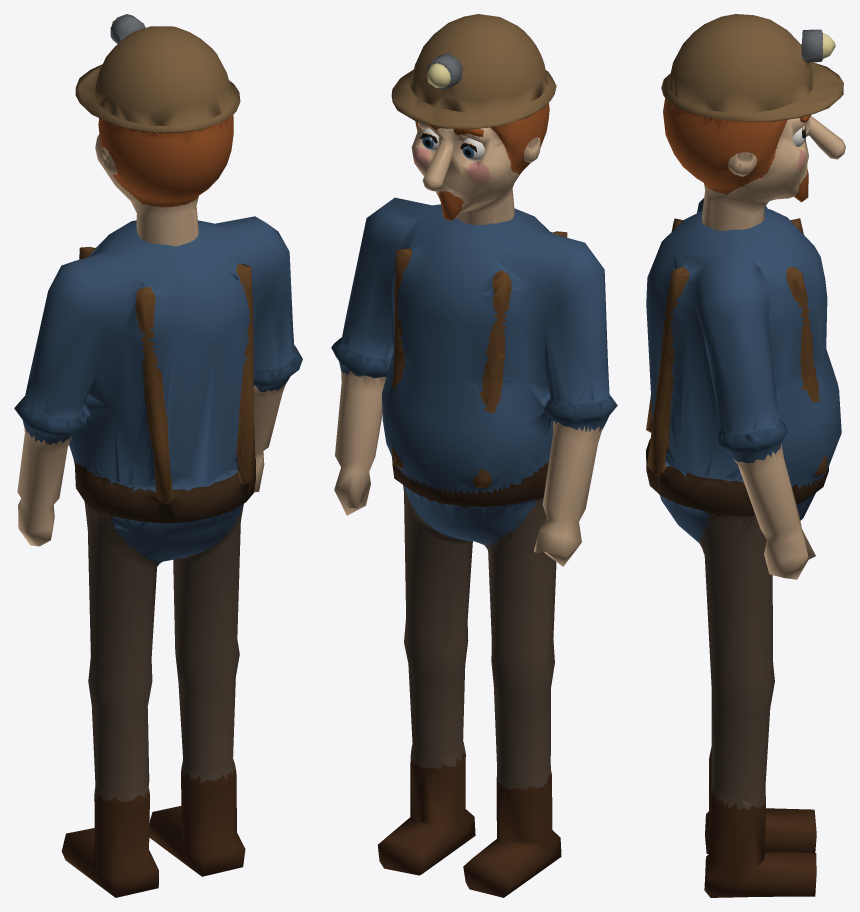
Rendered from miner.glb.
3 renders of one model, left to right at view 1: azimuth 30°, elevation 25°; view 2: azimuth 150°, elevation 25°; view 3: azimuth 270°, elevation 25°, orthographic.
Parts seen in each view (by area): view 1: body_lod0, head_lod0; view 2: body_lod0, head_lod0; view 3: body_lod0, head_lod0.
Part boxes in pixels (<box>): body_lod0: <box>14,216,302,897</box>; head_lod0: <box>75,14,240,246</box>; body_lod0: <box>331,197,617,897</box>; head_lod0: <box>391,14,556,224</box>; body_lod0: <box>646,198,841,897</box>; head_lod0: <box>661,14,845,230</box>.
Size of what is drawn, in the model's own units: 0.6702 by 1.96 by 0.4167.
